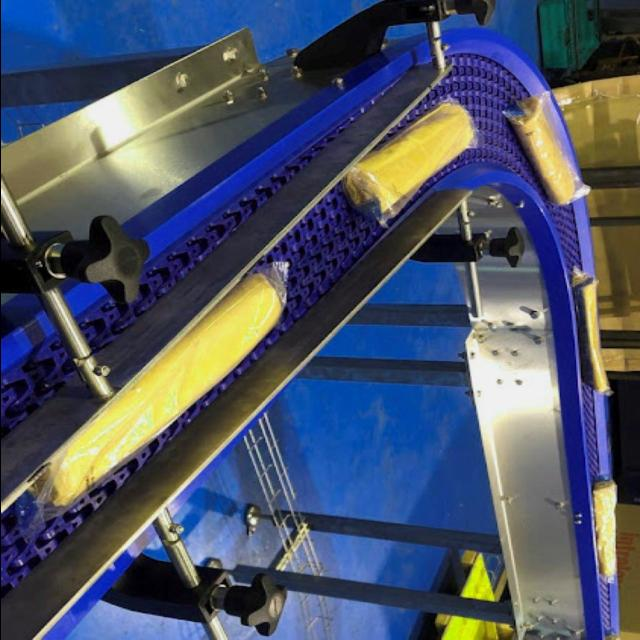food: (24, 259, 292, 520), (341, 100, 477, 228), (500, 90, 592, 206)
